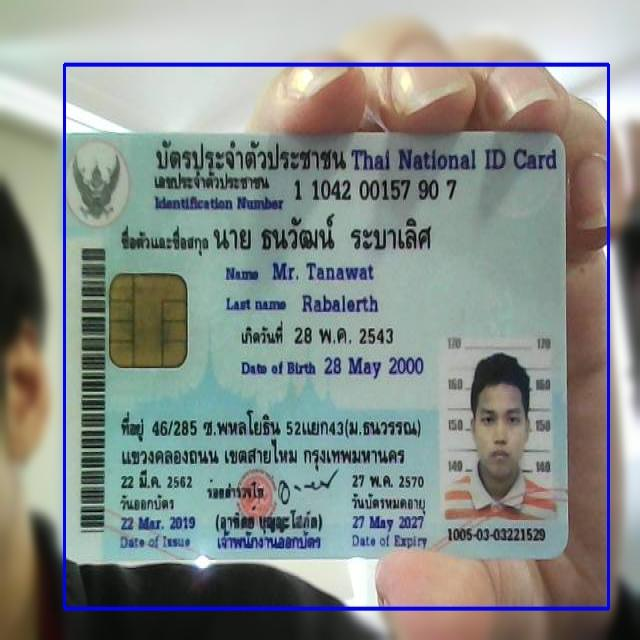Address_th: (112, 403, 430, 474)
Date_of_Birth: (322, 350, 427, 384)
Date_of_Expiry: (350, 510, 428, 536)
Date_of_Issue: (114, 514, 200, 533)
First_Name: (268, 255, 380, 287)
ID_Number: (290, 171, 465, 207)
Image: (439, 333, 554, 522)
Last_Name: (298, 290, 381, 317)
Thai_Name: (212, 210, 442, 261)
